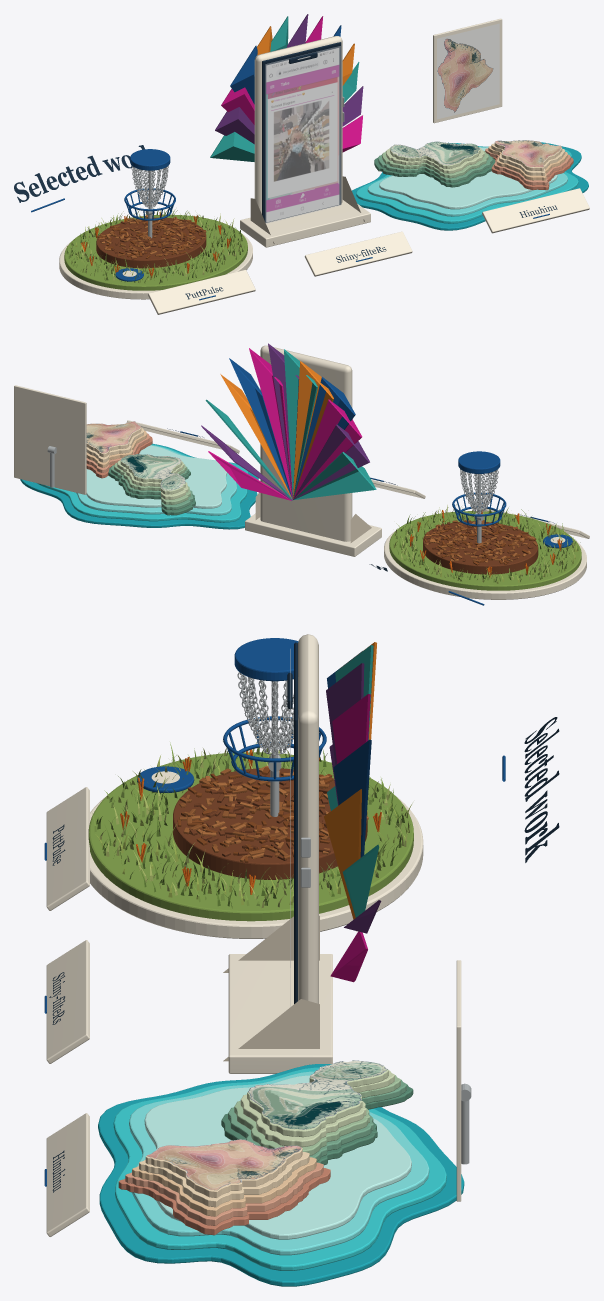
Rendered from work.glb.
3 renders of one model, top to bottom at view 1: azimuth 30°, elevation 25°; view 2: azimuth 150°, elevation 25°; view 3: azimuth 270°, elevation 25°, orthographic. The views are drawn at different scales.
Parts seen in each view (by area): view 1: Phone glass lens, Original application screen, Putting green layered grass, Altitude chart image, Work miniature / Mulch chip 0, Layered ocean contour.003, Phone cradle, Project nameplate PuttPulse, Project nameplate Hinuhinu, Project nameplate Shiny-filteRs, Miniature living grass, Shiny-filteRs phone shell (+29 smaller); view 2: Standing Hinuhinu chart, Putting green layered grass, Shiny-filteRs phone shell, shiny-device / Folded magenta, shiny-device / Folded teal, Work miniature / Mulch chip 0, Layered ocean contour.003, shiny-device / Folded violet, shiny-device / Folded orange, Miniature living grass, shiny-device / Basket cobalt, Work miniature / Folded cream card (+22 smaller); view 3: Putting green layered grass, Layered ocean contour.003, Layered ocean contour, Layered ocean contour.001, Work miniature / Mulch chip 0, Phone cradle, Shiny-filteRs phone shell, Miniature living grass, Layered ocean contour.002, Work miniature / Folded cream card, Maui printed map, Project nameplate Hinuhinu (+27 smaller).
Part boxes in pixels (x1,y1,x2,y2): Phone glass lens: (265, 46, 340, 223); Original application screen: (266, 48, 339, 221); Putting green layered grass: (64, 214, 247, 290); Altitude chart image: (437, 23, 499, 119); Work miniature / Mulch chip 0: (96, 216, 206, 268); Layered ocean contour.003: (379, 147, 557, 209); Phone cradle: (240, 200, 370, 247); Project nameplate PuttPulse: (148, 270, 255, 314); Project nameplate Hinuhinu: (482, 188, 589, 233); Project nameplate Shiny-filteRs: (304, 231, 412, 276); Miniature living grass: (66, 209, 244, 283); Shiny-filteRs phone shell: (254, 36, 342, 213); Standing Hinuhinu chart: (14, 385, 86, 494); Putting green layered grass: (389, 511, 581, 590); Shiny-filteRs phone shell: (260, 345, 352, 541); shiny-device / Folded magenta: (208, 348, 362, 500); shiny-device / Folded teal: (205, 349, 376, 500); Work miniature / Mulch chip 0: (423, 521, 538, 574); Layered ocean contour.003: (86, 445, 227, 508); shiny-device / Folded violet: (201, 343, 369, 500); shiny-device / Folded orange: (220, 361, 333, 498); Miniature living grass: (393, 504, 580, 583); shiny-device / Basket cobalt: (229, 358, 355, 498); Work miniature / Folded cream card: (384, 530, 586, 599); Putting green layered grass: (88, 752, 413, 921); Layered ocean contour.003: (144, 1075, 411, 1239); Layered ocean contour: (98, 1064, 464, 1286); Layered ocean contour.001: (113, 1067, 446, 1270); Work miniature / Mulch chip 0: (173, 768, 367, 879); Phone cradle: (228, 954, 332, 1073); Shiny-filteRs phone shell: (298, 634, 318, 1003); Miniature living grass: (92, 742, 412, 908); Layered ocean contour.002: (129, 1071, 429, 1255); Work miniature / Folded cream card: (90, 771, 423, 938); Maui printed map: (248, 1060, 387, 1129); Project nameplate Hinuhinu: (46, 1113, 89, 1236).
Size of the model in its own units: 10.1 by 3.56 by 4.34.
36 materials, 4 textured.
